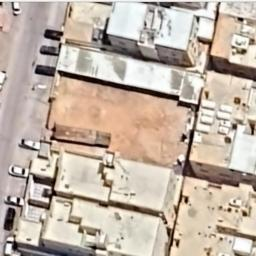sedan: (8, 163, 36, 180), (16, 136, 40, 152), (2, 194, 29, 208), (0, 236, 17, 256), (44, 26, 65, 42), (38, 44, 65, 56), (12, 0, 22, 16)
